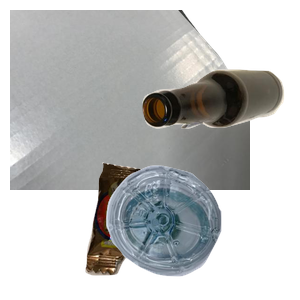cardboard: (10, 10, 250, 190)
glass: (140, 67, 300, 188)
plastic: (104, 163, 300, 300)
trash: (83, 160, 233, 300)
